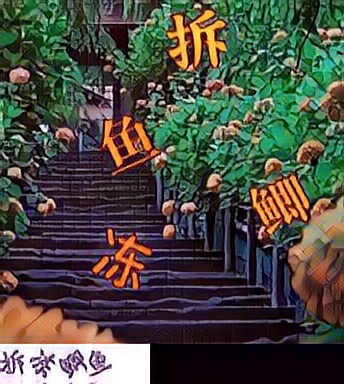B2F0: (165, 6, 229, 72)
B6B3: (90, 227, 154, 293)
D3E3: (97, 110, 161, 176)
F6EA: (247, 173, 311, 239)
